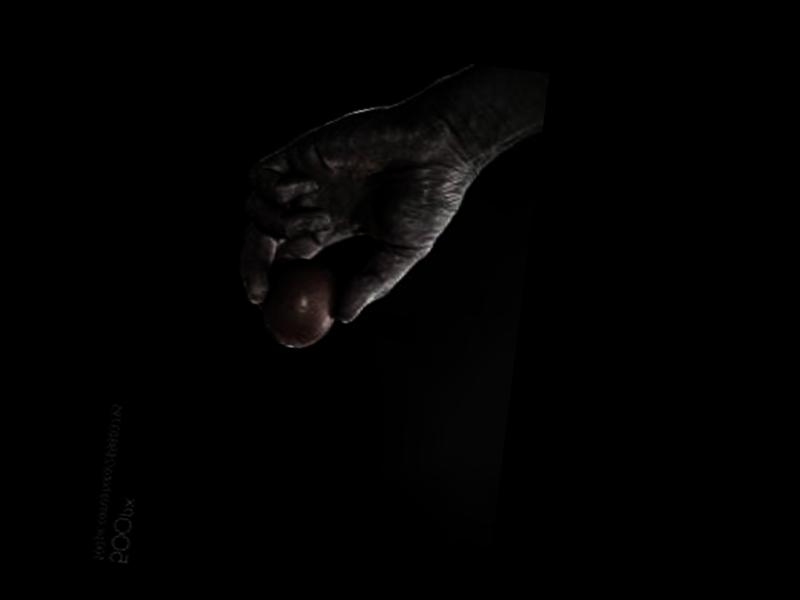Eggs: (259, 252, 345, 352)
